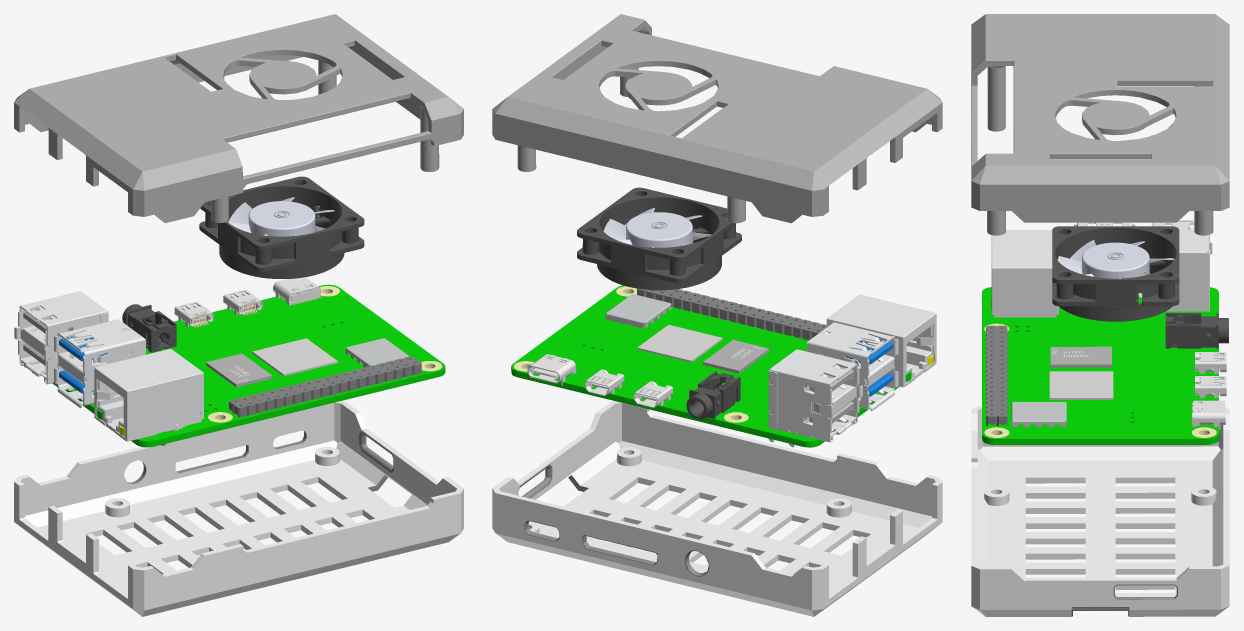
3 renders of one model, left to right at view 1: azimuth 30°, elevation 25°; view 2: azimuth 150°, elevation 25°; view 3: azimuth 270°, elevation 25°, orthographic.
Visible parts, largest first — view 1: base, top, PCB, RPi4ModelB, motor_house, Gigabit Ethernet Port, RPi4ModelB, 2X USB3.0 PORTS, RPi4ModelB, 2X USB2.0 PORTS, RPi4ModelB, 2.54 mm DUPONT MALE PIN HEADER, IO, 2X20, RPi4ModelB.013, fan_blade, Broadcom BCM2711B0 CPU, RPi4ModelB, Microphone Plug, RPi4ModelB.002, 91D77 D9WHV 778K, 4 GB LPDDR4 SDRAM, RPi4ModelB (+4 smaller); view 2: base, top, PCB, RPi4ModelB, motor_house, 2X USB2.0 PORTS, RPi4ModelB, Gigabit Ethernet Port, RPi4ModelB, 2X USB3.0 PORTS, RPi4ModelB, 2.54 mm DUPONT MALE PIN HEADER, IO, 2X20, RPi4ModelB.013, fan_blade, Microphone Plug, RPi4ModelB.002, Broadcom BCM2711B0 CPU, RPi4ModelB, Cypress CYW43455 Wireless Module Cover, RPi4ModelB (+4 smaller); view 3: top, base, PCB, RPi4ModelB, motor_house, Gigabit Ethernet Port, RPi4ModelB, 2X USB2.0 PORTS, RPi4ModelB, fan_blade, 2.54 mm DUPONT MALE PIN HEADER, IO, 2X20, RPi4ModelB.013, Microphone Plug, RPi4ModelB.002, Broadcom BCM2711B0 CPU, RPi4ModelB, Cypress CYW43455 Wireless Module Cover, RPi4ModelB, 91D77 D9WHV 778K, 4 GB LPDDR4 SDRAM, RPi4ModelB (+3 smaller).
Part boxes in pixels (bbox=[...]): base: bbox=[14, 400, 463, 616]; top: bbox=[14, 14, 463, 223]; PCB, RPi4ModelB: bbox=[52, 284, 445, 447]; motor_house: bbox=[199, 176, 364, 278]; Gigabit Ethernet Port, RPi4ModelB: bbox=[94, 348, 203, 445]; 2X USB3.0 PORTS, RPi4ModelB: bbox=[54, 319, 145, 408]; 2X USB2.0 PORTS, RPi4ModelB: bbox=[14, 291, 108, 384]; 2.54 mm DUPONT MALE PIN HEADER, IO, 2X20, RPi4ModelB.013: bbox=[229, 356, 421, 417]; fan_blade: bbox=[228, 197, 334, 236]; Broadcom BCM2711B0 CPU, RPi4ModelB: bbox=[252, 338, 337, 376]; Microphone Plug, RPi4ModelB.002: bbox=[122, 304, 176, 352]; 91D77 D9WHV 778K, 4 GB LPDDR4 SDRAM, RPi4ModelB: bbox=[206, 353, 272, 387]; base: bbox=[492, 401, 942, 616]; top: bbox=[492, 14, 942, 223]; PCB, RPi4ModelB: bbox=[511, 285, 899, 447]; motor_house: bbox=[577, 187, 741, 290]; 2X USB2.0 PORTS, RPi4ModelB: bbox=[768, 349, 862, 447]; Gigabit Ethernet Port, RPi4ModelB: bbox=[826, 294, 936, 387]; 2X USB3.0 PORTS, RPi4ModelB: bbox=[806, 322, 898, 411]; 2.54 mm DUPONT MALE PIN HEADER, IO, 2X20, RPi4ModelB.013: bbox=[637, 288, 826, 340]; fan_blade: bbox=[603, 208, 711, 247]; Microphone Plug, RPi4ModelB.002: bbox=[686, 371, 740, 419]; Broadcom BCM2711B0 CPU, RPi4ModelB: bbox=[637, 324, 722, 362]; Cypress CYW43455 Wireless Module Cover, RPi4ModelB: bbox=[605, 294, 671, 328]; top: bbox=[971, 14, 1229, 235]; base: bbox=[971, 405, 1229, 616]; PCB, RPi4ModelB: bbox=[982, 287, 1219, 444]; motor_house: bbox=[1052, 226, 1179, 321]; Gigabit Ethernet Port, RPi4ModelB: bbox=[991, 230, 1058, 317]; 2X USB2.0 PORTS, RPi4ModelB: bbox=[1152, 220, 1212, 311]; fan_blade: bbox=[1057, 240, 1174, 297]; 2.54 mm DUPONT MALE PIN HEADER, IO, 2X20, RPi4ModelB.013: bbox=[986, 325, 1007, 426]; Microphone Plug, RPi4ModelB.002: bbox=[1165, 313, 1228, 348]; Broadcom BCM2711B0 CPU, RPi4ModelB: bbox=[1049, 371, 1113, 399]; Cypress CYW43455 Wireless Module Cover, RPi4ModelB: bbox=[1011, 402, 1066, 427]; 91D77 D9WHV 778K, 4 GB LPDDR4 SDRAM, RPi4ModelB: bbox=[1050, 346, 1111, 367].
Size of the model in its own units: 0.0926 by 0.1177 by 0.061.
